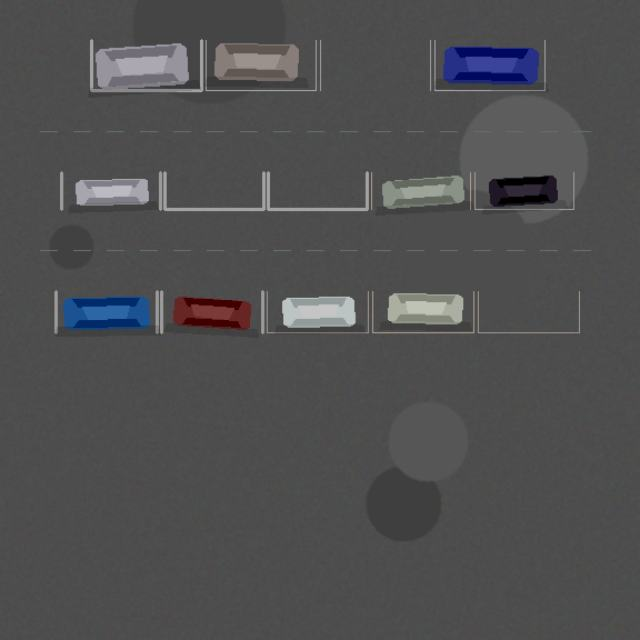space-empty: (320, 40, 430, 90), (478, 291, 579, 332), (164, 172, 263, 209), (268, 172, 367, 209)
space-occupied: (91, 40, 201, 90), (206, 40, 316, 90), (434, 40, 544, 90), (56, 291, 157, 332), (161, 291, 262, 332), (267, 291, 368, 332), (372, 291, 473, 332), (61, 172, 160, 209), (371, 172, 470, 209), (474, 172, 573, 209)
